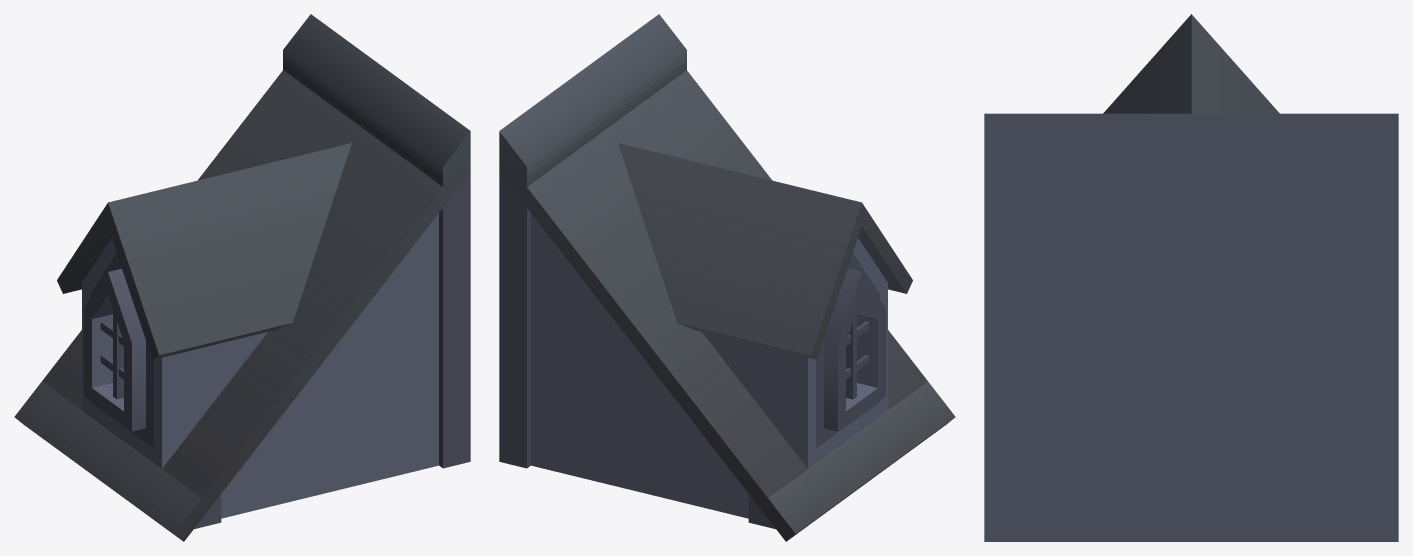
File: roof-high-window.glb
The picture shows the model from 3 angles, left to right: view 1: azimuth 30°, elevation 25°; view 2: azimuth 150°, elevation 25°; view 3: azimuth 270°, elevation 25°; orthographic projection. The views are drawn at different scales.
Parts seen in each view (by area): view 1: roof-high-window; view 2: roof-high-window; view 3: roof-high-window.
Boxes of the visible parts, x1,y1,x2,y2 form: roof-high-window: (14, 14, 470, 541); roof-high-window: (499, 14, 955, 541); roof-high-window: (984, 14, 1398, 541).
Size of the model in its own units: 1.07 by 1.18 by 1.
1 material, 1 textured.
